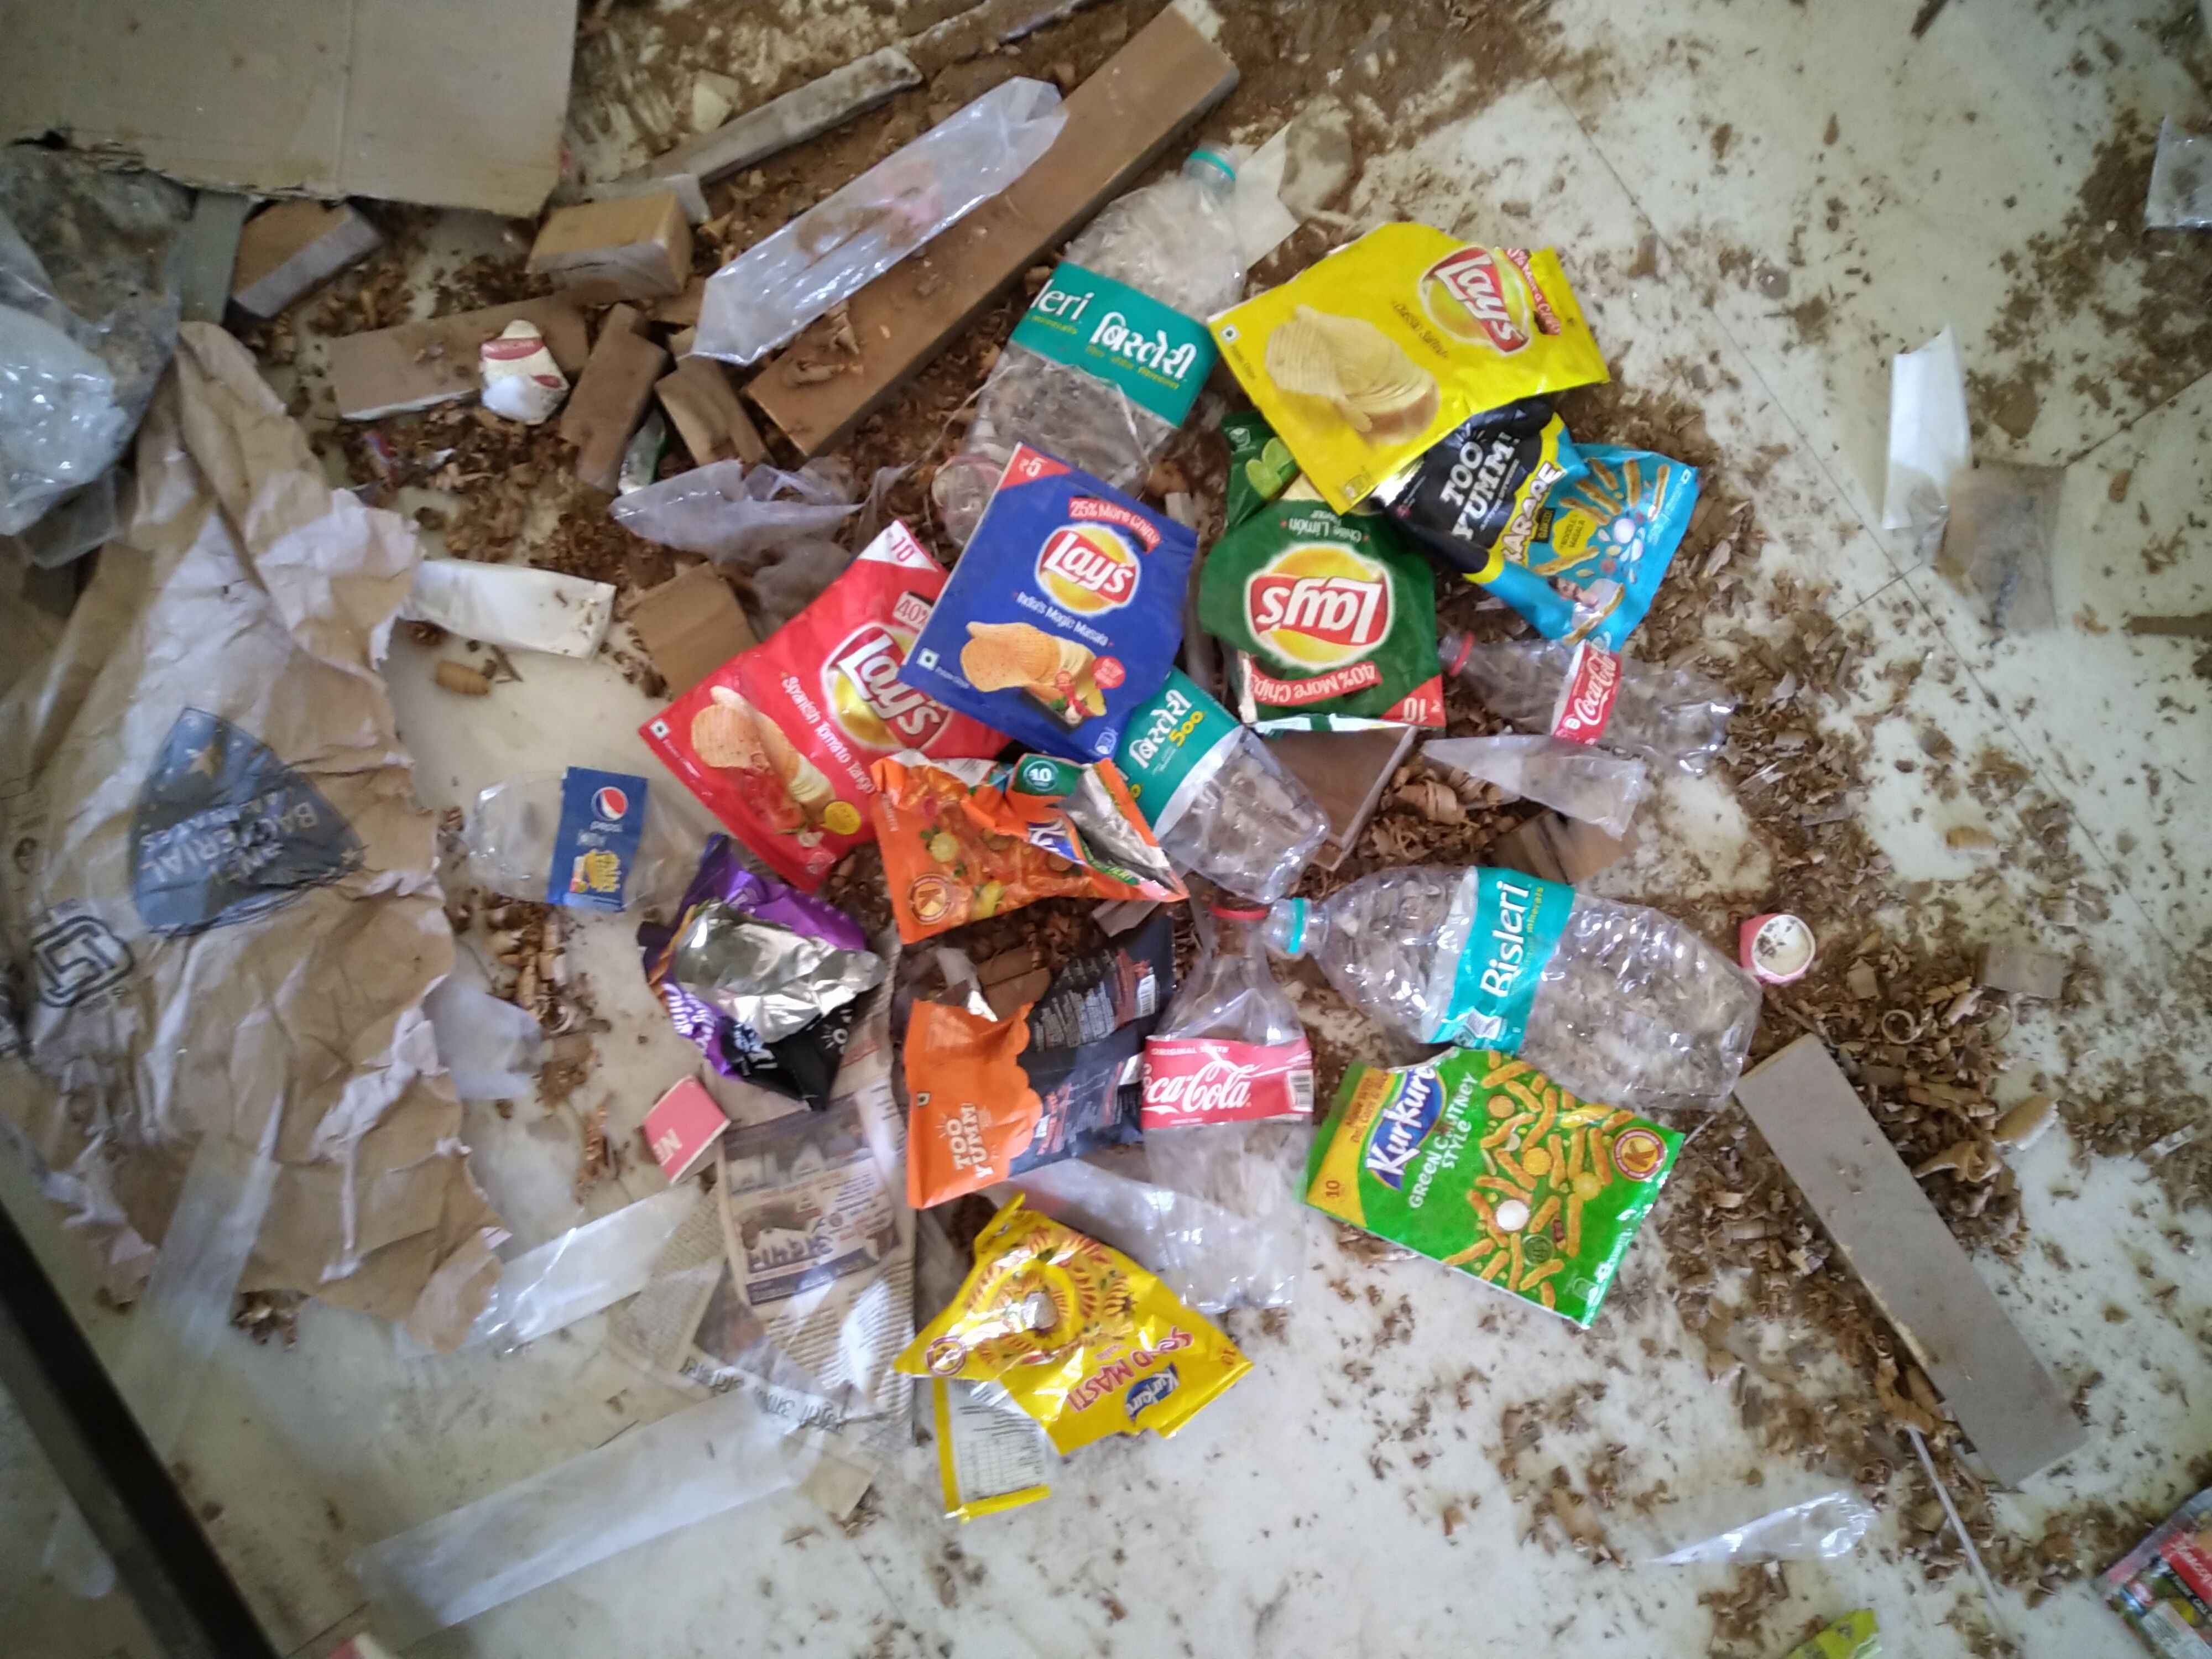Bisleri: (1054, 282, 1205, 401), (1447, 877, 1541, 1044), (1123, 674, 1205, 789)
Coca-Cola: (1134, 1047, 1310, 1112), (1568, 645, 1623, 730)
Lays: (812, 605, 975, 749), (1242, 544, 1420, 667), (1411, 237, 1550, 375), (1010, 514, 1181, 610)
kurkure: (1360, 1053, 1447, 1185), (1083, 1354, 1191, 1425)
pepsi: (575, 770, 643, 889)
tooyumm: (1430, 429, 1536, 544), (930, 1091, 1000, 1178), (801, 985, 873, 1066)
